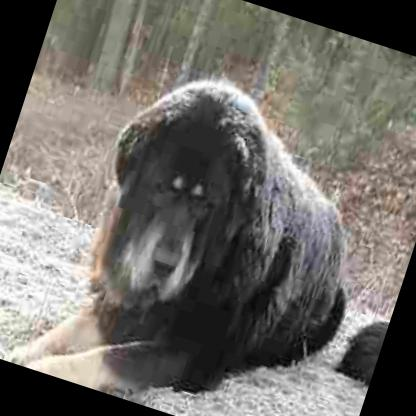Tibetan_mastiff: (1, 32, 403, 416)
